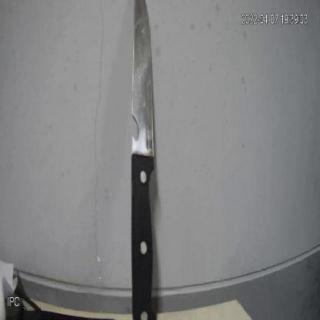knife: (121, 1, 181, 319)
